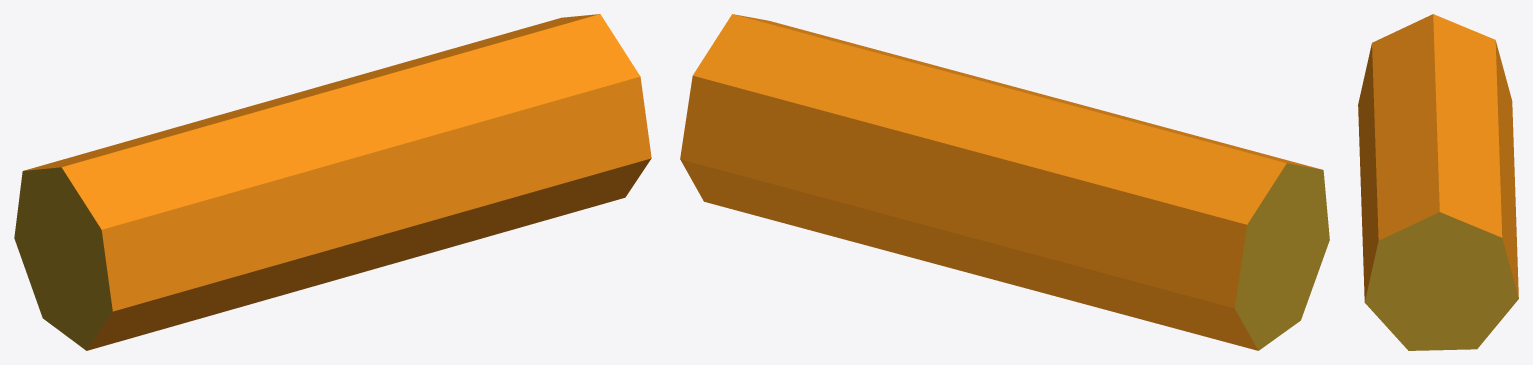
File: small_log.fbx
The picture shows the model from 3 angles, left to right: view 1: azimuth 30°, elevation 25°; view 2: azimuth 150°, elevation 25°; view 3: azimuth 270°, elevation 25°; orthographic projection. The views are drawn at different scales.
Visible parts, largest first — view 1: polySurface4; view 2: polySurface4; view 3: polySurface4.
Part boxes in pixels (left/top/right/bottom): polySurface4: left=14, top=14, right=651, bottom=350; polySurface4: left=680, top=14, right=1329, bottom=350; polySurface4: left=1358, top=14, right=1518, bottom=350.
Size of the model in its own units: 4.04 by 1.33 by 1.28.
